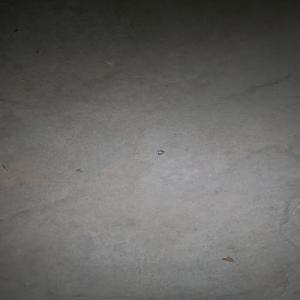Nut: (156, 151, 164, 156)
